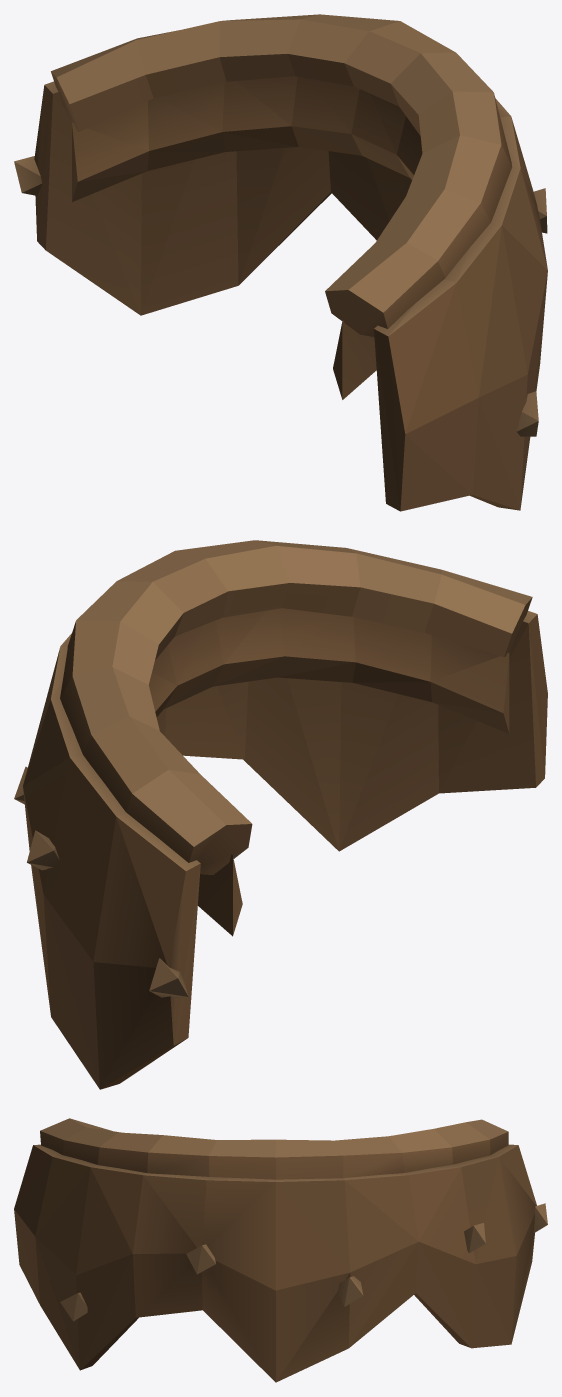
The model's file is gd_chariot_mantle.glb.
3 renders of one model, top to bottom at view 1: azimuth 30°, elevation 25°; view 2: azimuth 150°, elevation 25°; view 3: azimuth 270°, elevation 25°, orthographic. The views are drawn at different scales.
Parts seen in each view (by area): view 1: base; view 2: base; view 3: base.
Part boxes in pixels (left/top/right/bottom): base: left=14, top=14, right=547, bottom=511; base: left=14, top=540, right=547, bottom=1089; base: left=14, top=1118, right=547, bottom=1382.
Bounding box in the file's own units: 0.1784 × 0.1959 × 0.3876.
